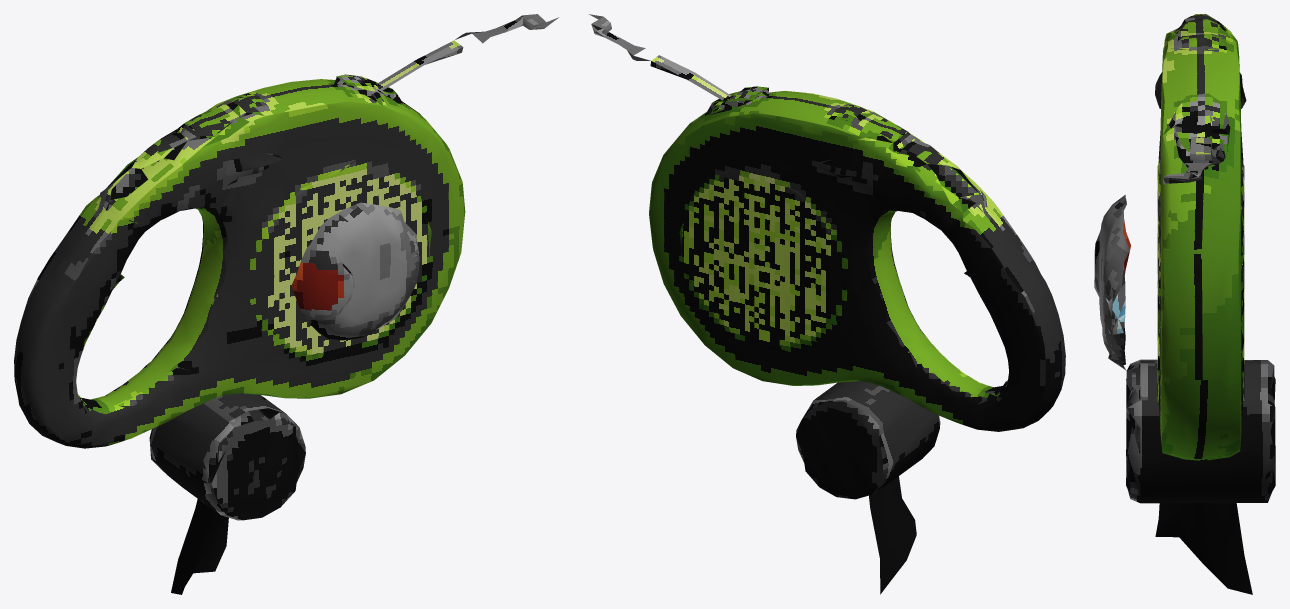
Rendered from dog_leash.glb.
3 renders of one model, left to right at view 1: azimuth 30°, elevation 25°; view 2: azimuth 150°, elevation 25°; view 3: azimuth 270°, elevation 25°, orthographic. The views are drawn at different scales.
Visible parts, largest first — view 1: mesh; view 2: mesh; view 3: mesh.
Part boxes in pixels (x1,y1,x2,y2): mesh: [14, 14, 558, 594]; mesh: [588, 14, 1065, 594]; mesh: [1094, 14, 1275, 594].
Size of the model in its own units: 0.1603 by 0.15 by 0.0402.
Materials: 1 (1 with a texture image).
